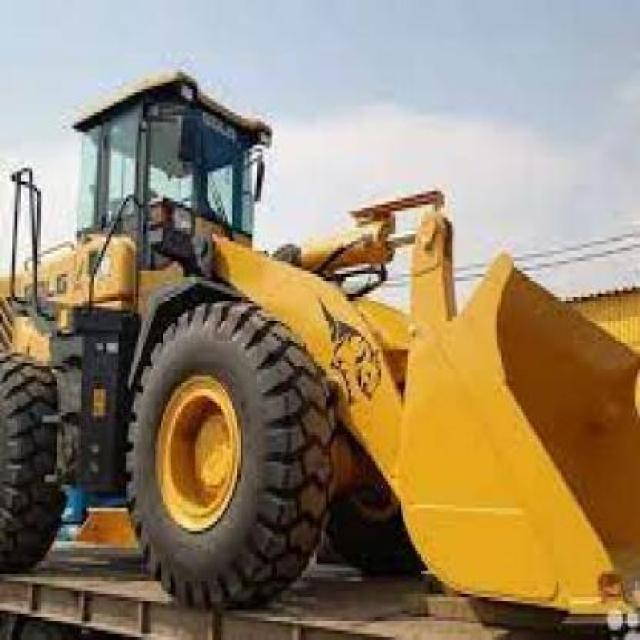buldozerpayloadergrader: (4, 38, 633, 628)
